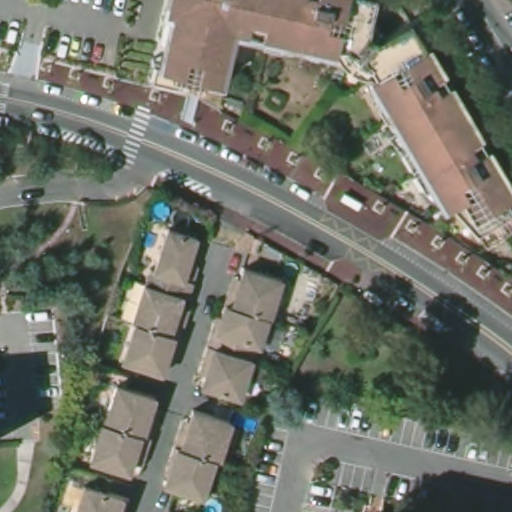pool: (151, 197, 173, 224), (205, 497, 225, 509)
